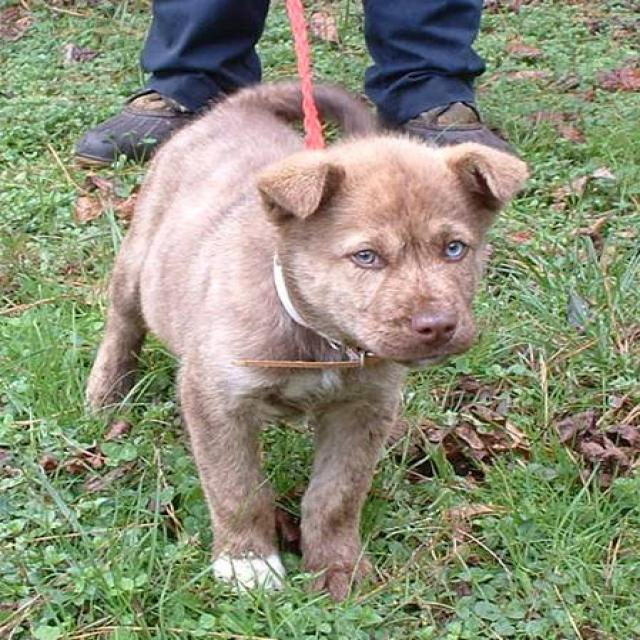dog: (83, 77, 530, 604)
